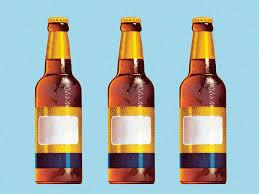Glass bottle: (23, 10, 88, 189), (96, 12, 157, 190), (172, 14, 233, 189)
